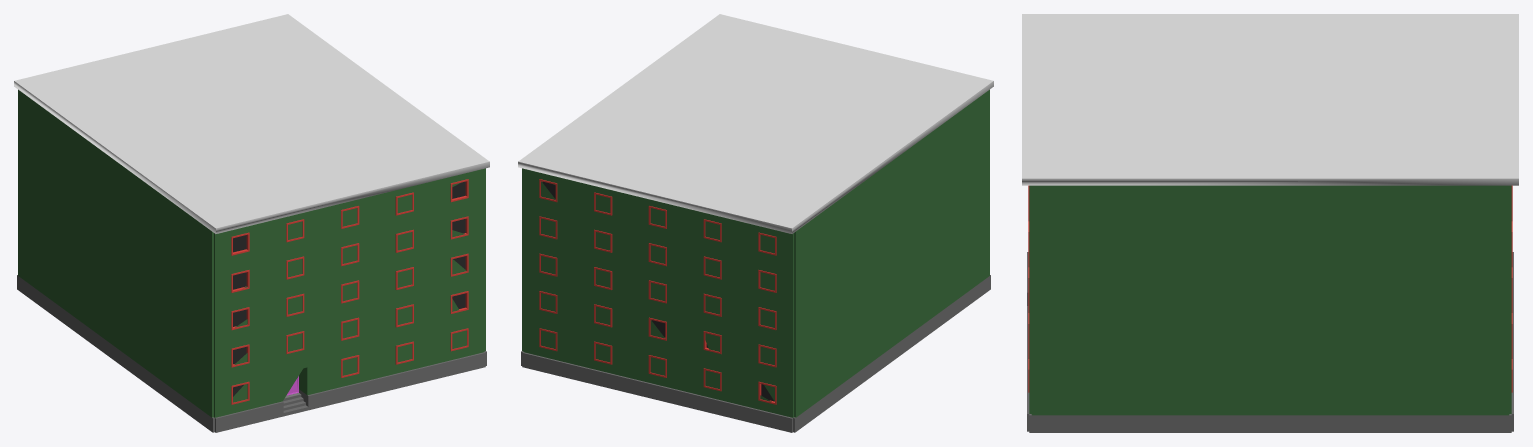
3 views of the same model, side by side, from view 1: azimuth 30°, elevation 25°; view 2: azimuth 150°, elevation 25°; view 3: azimuth 270°, elevation 25° (orthographic). The views are drawn at different scales.
Parts seen in each view (by area): view 1: BR20_F05_04; view 2: BR20_F05_04; view 3: BR20_F05_04.
Boxes of the visible parts, x1,y1,x2,y2 form: BR20_F05_04: (14,14,489,432); BR20_F05_04: (518,14,993,432); BR20_F05_04: (1022,14,1518,432).
Size of the model in its own units: 2000 by 1440 by 2550.
